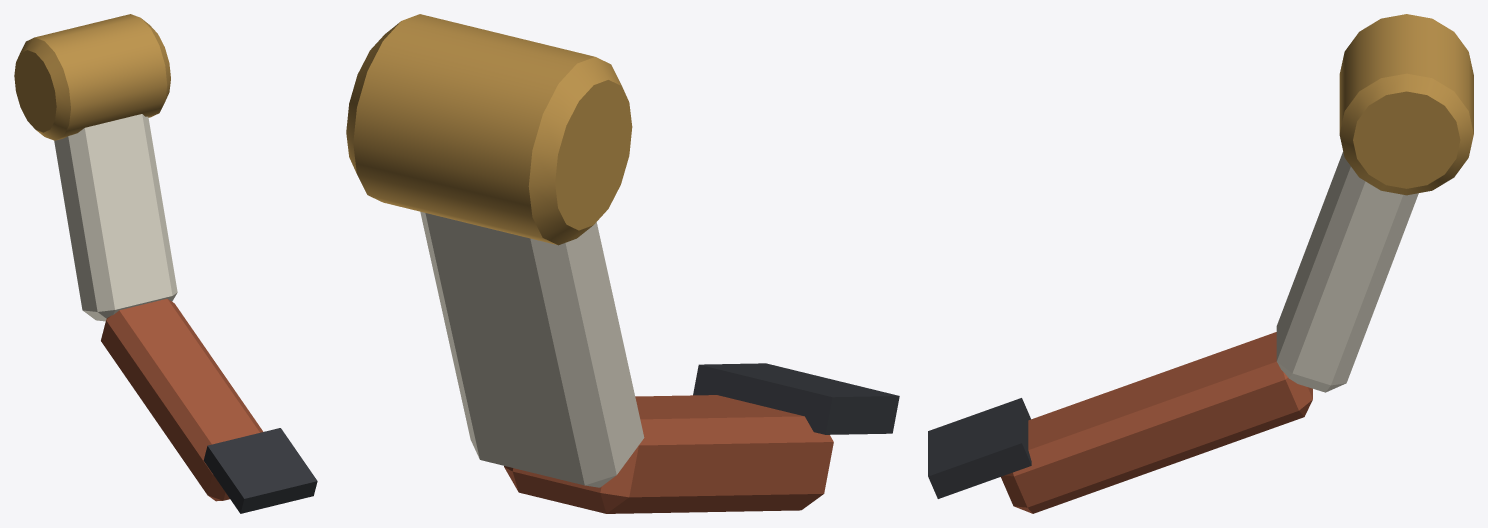
File: rm2_claw_jaw_b.obj
The picture shows the model from 3 angles, left to right: view 1: azimuth 30°, elevation 25°; view 2: azimuth 150°, elevation 25°; view 3: azimuth 270°, elevation 25°; orthographic projection. The views are drawn at different scales.
Parts seen in each view (by area): view 1: rm2_claw_jaw_b; view 2: rm2_claw_jaw_b; view 3: rm2_claw_jaw_b.
Boxes of the visible parts, x1=… form: rm2_claw_jaw_b: x1=14, y1=14, x2=317, y2=513; rm2_claw_jaw_b: x1=346, y1=14, x2=899, y2=513; rm2_claw_jaw_b: x1=928, y1=14, x2=1473, y2=513.
Size of the model in its own units: 0.05 by 0.1496 by 0.1625.
